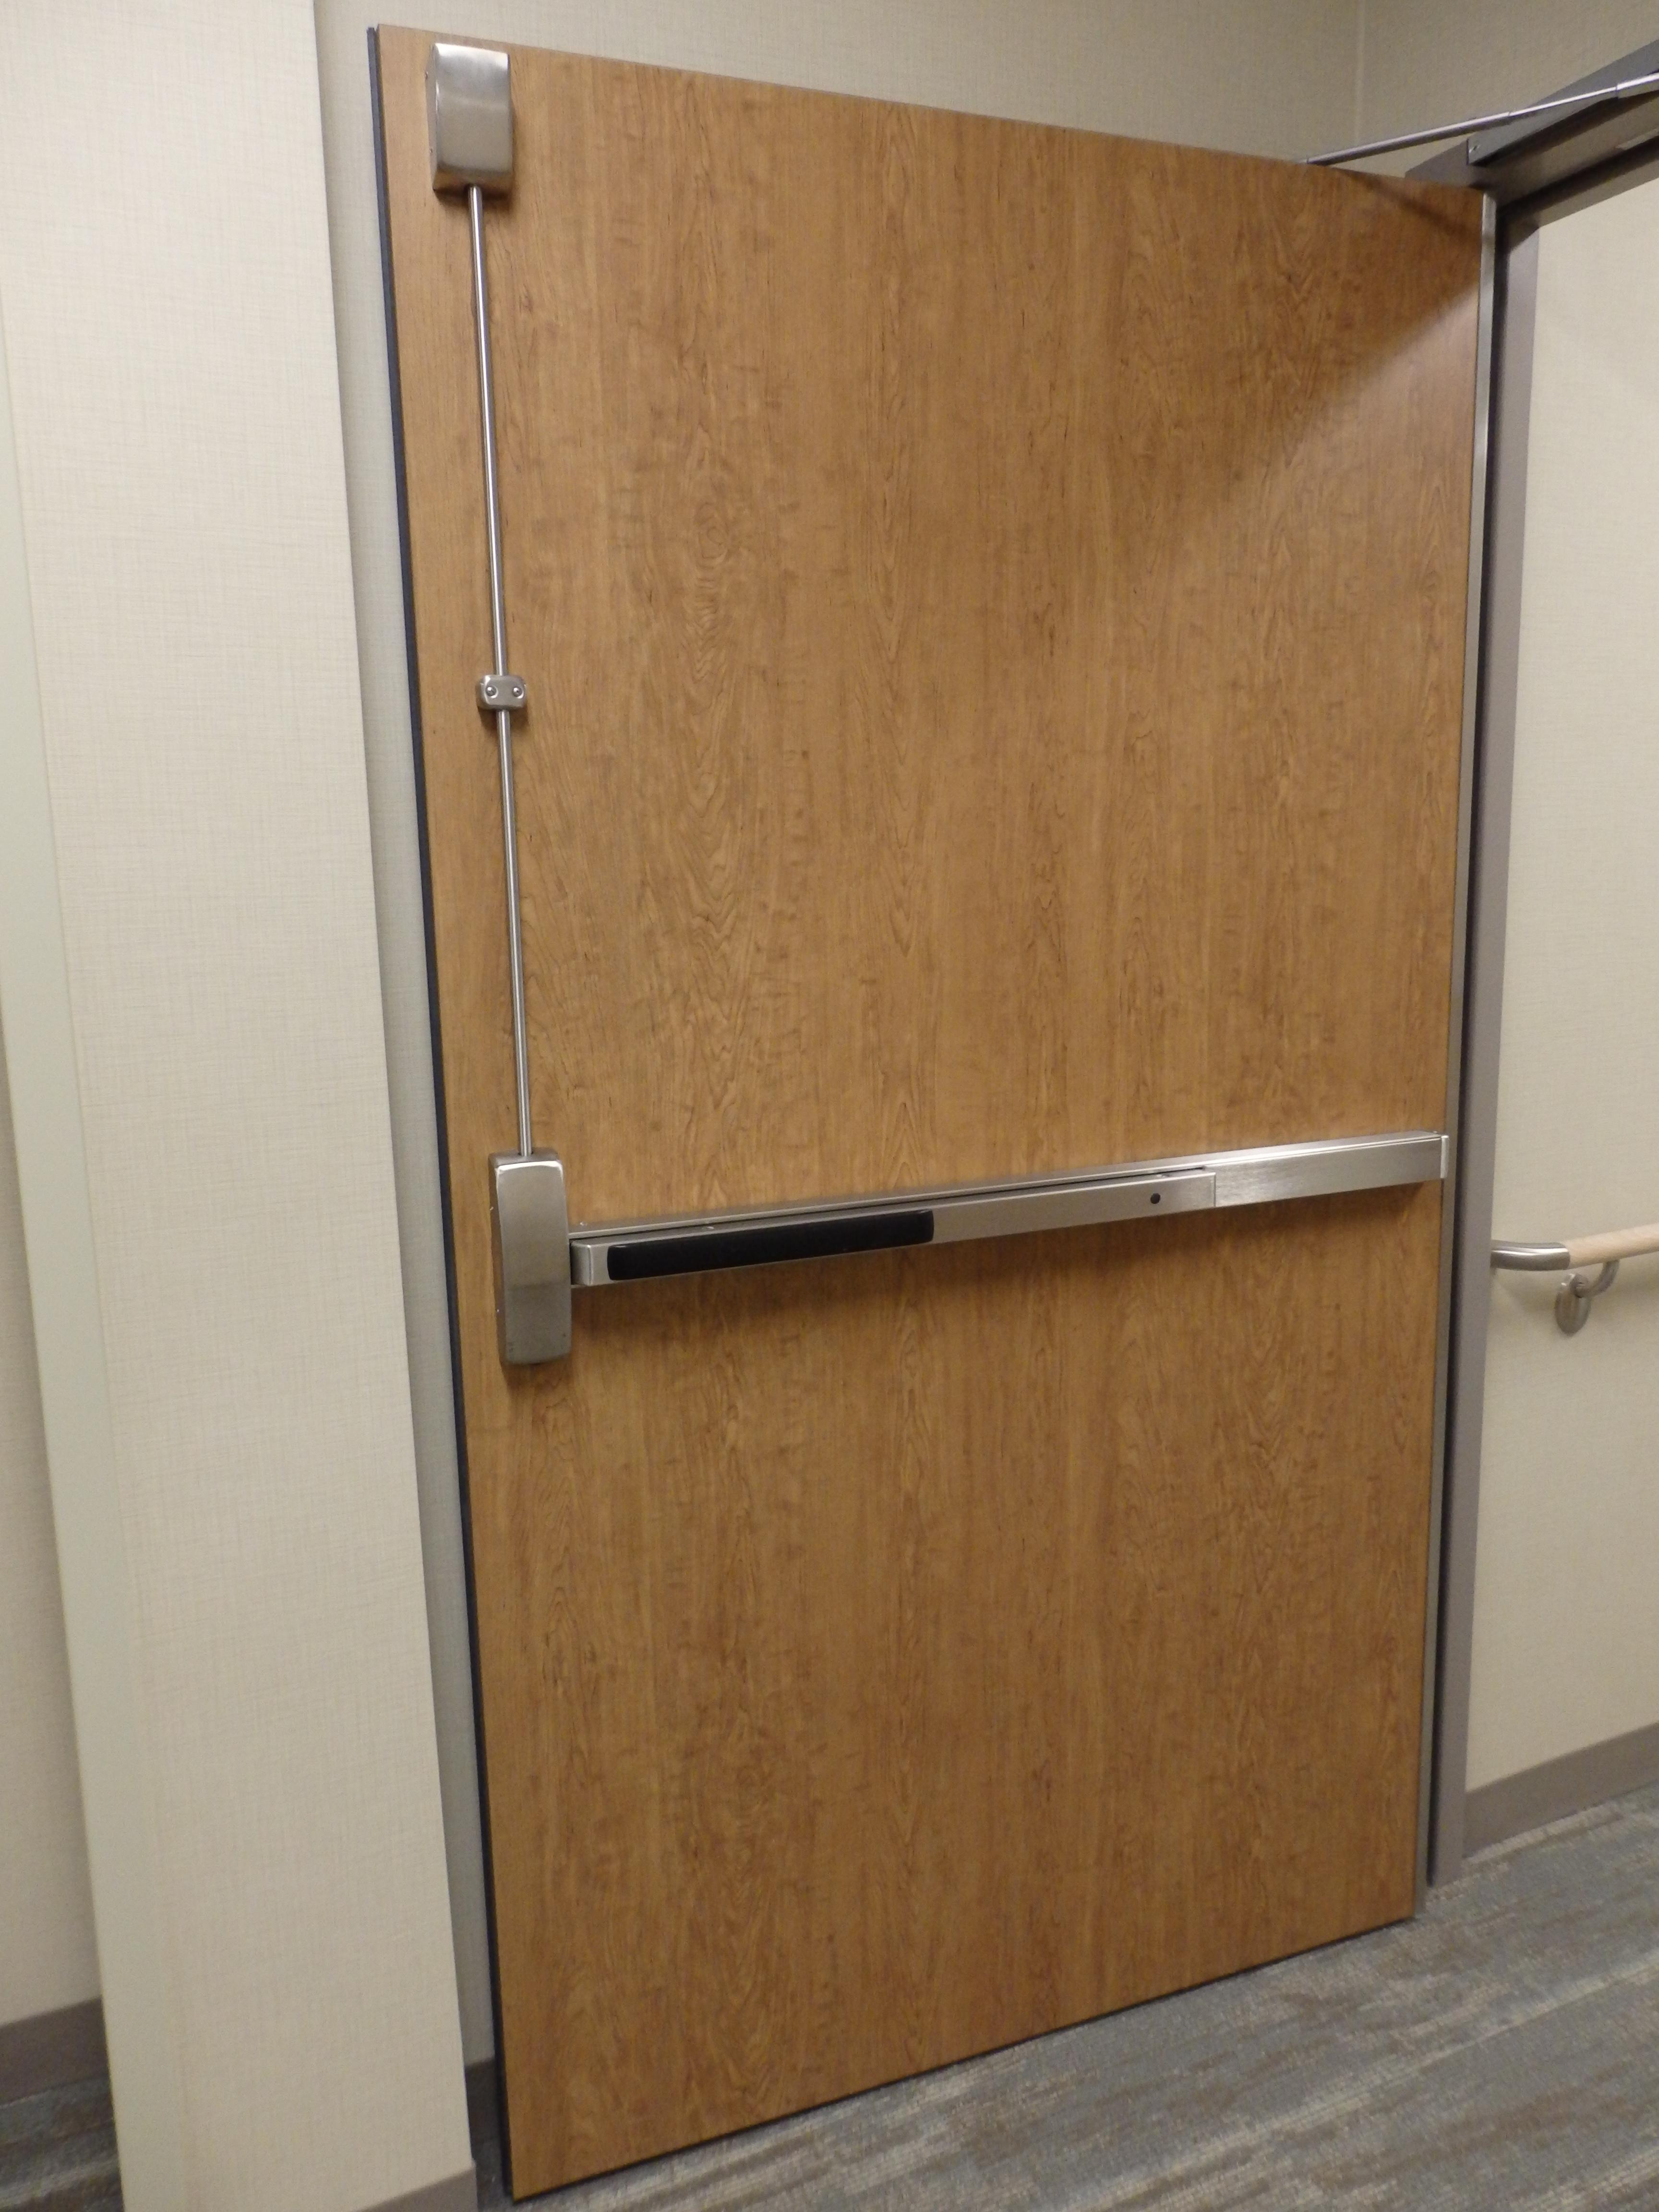door: (411, 80, 1486, 2163)
